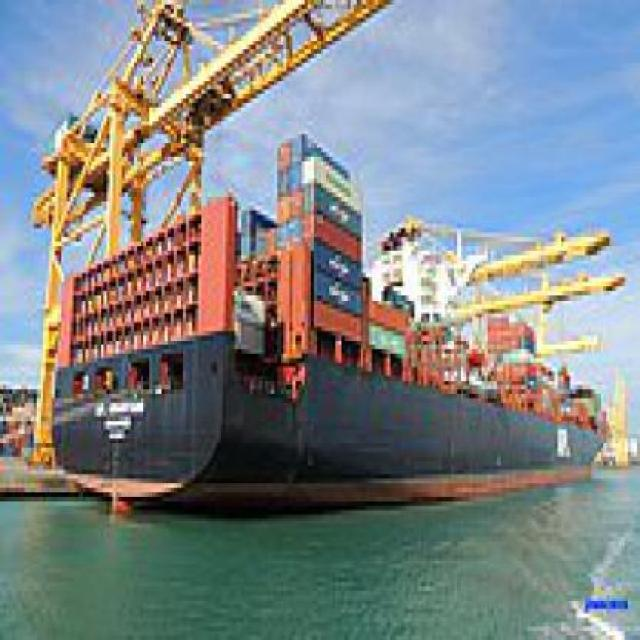container: (46, 126, 614, 525)
